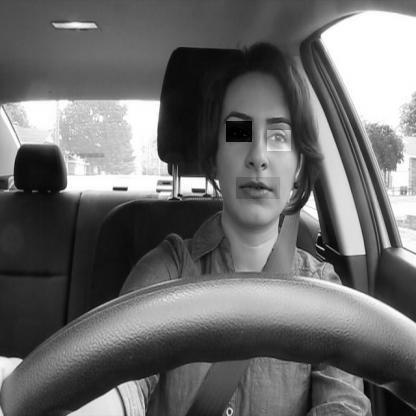seatbelt: (185, 41, 325, 416)
